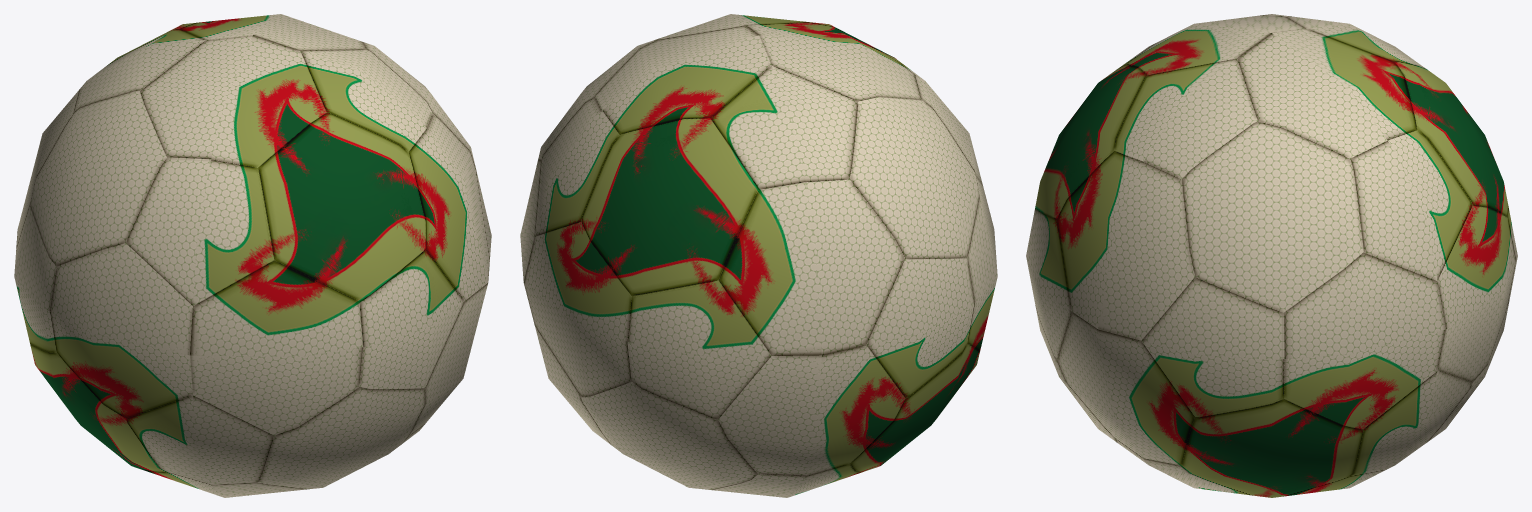
The model's file is Ball_TypeA.fbx.
3 views of the same model, side by side, from view 1: azimuth 30°, elevation 25°; view 2: azimuth 150°, elevation 25°; view 3: azimuth 270°, elevation 25° (orthographic).
Visible parts, largest first — view 1: Ball_TypeA; view 2: Ball_TypeA; view 3: Ball_TypeA.
Boxes of the visible parts, x1,y1,x2,y2 form: Ball_TypeA: (14,14,491,497); Ball_TypeA: (520,14,997,497); Ball_TypeA: (1026,14,1517,497).
Bounding box in the file's own units: 21.36 × 21.36 × 21.36.
2 materials, 2 textured.
